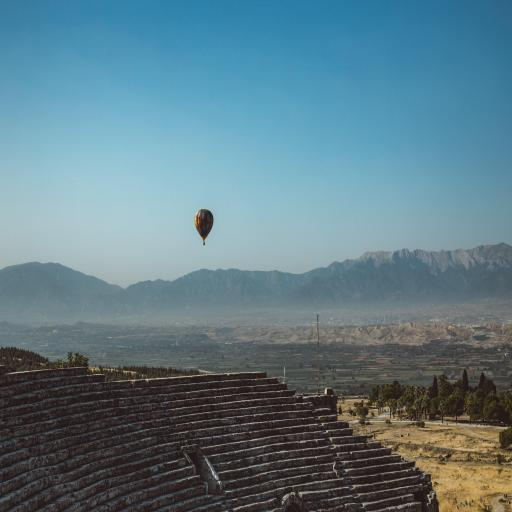hot air ballon: (195, 200, 215, 253)
